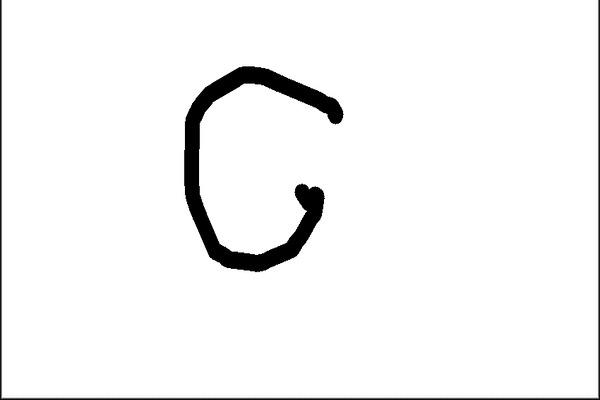C: (179, 59, 347, 273)
